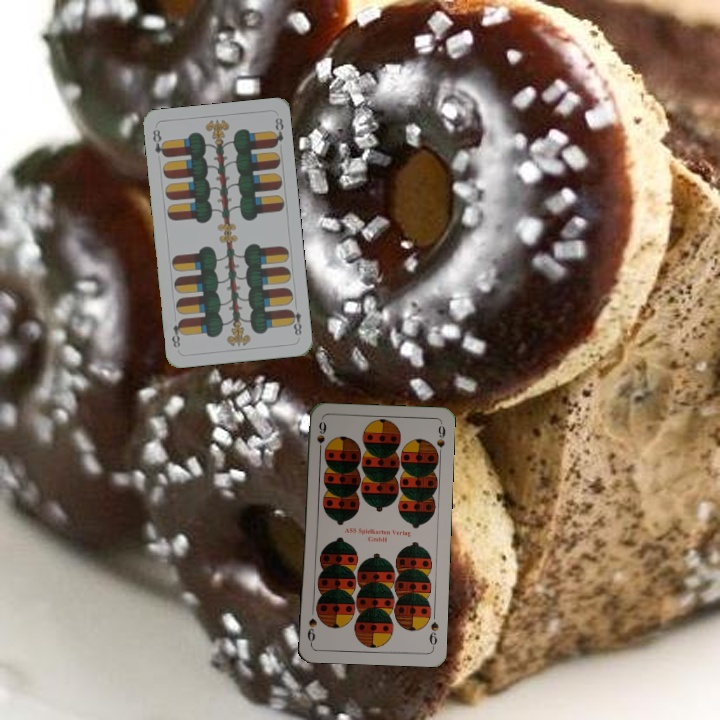E8: (285, 300, 304, 338), (149, 125, 169, 160)
S9: (313, 417, 329, 458), (425, 618, 441, 651)
